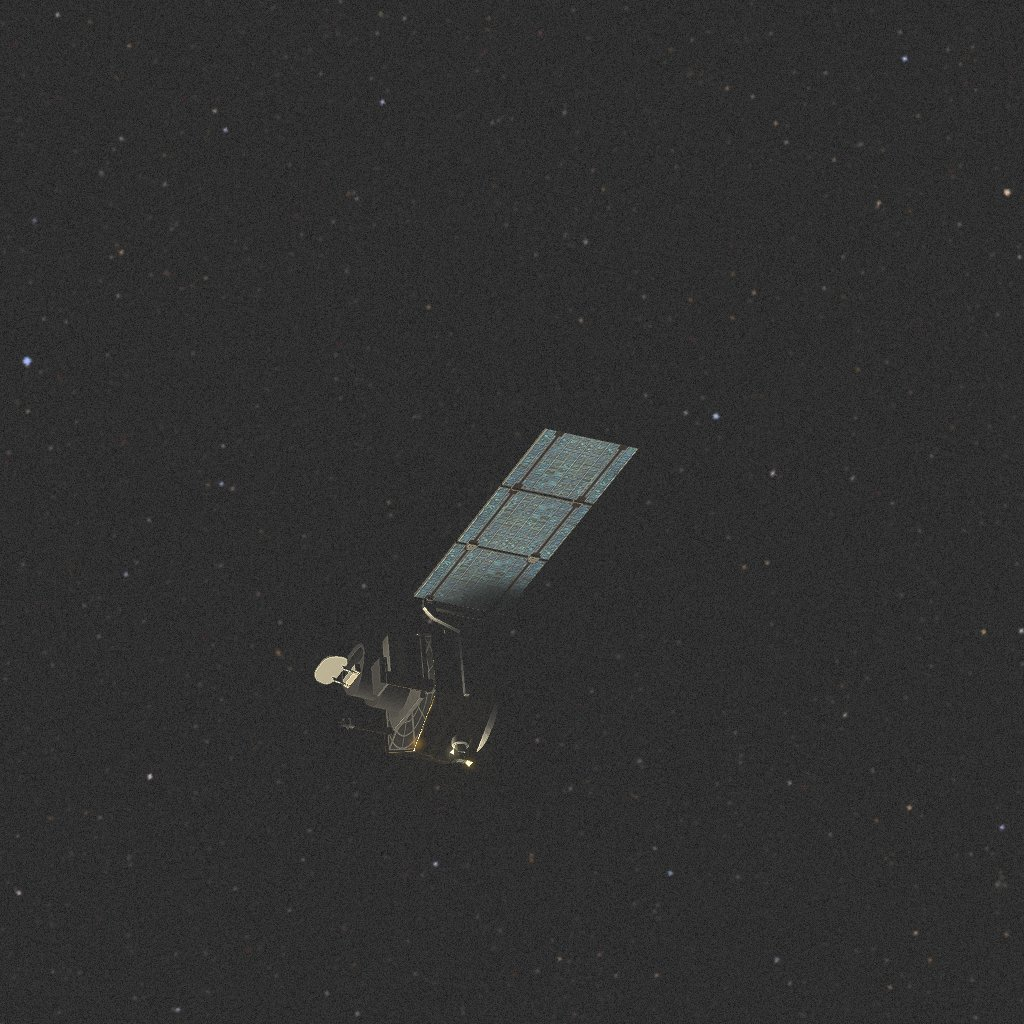earth_observation_sat_1: (315, 428, 639, 766)
